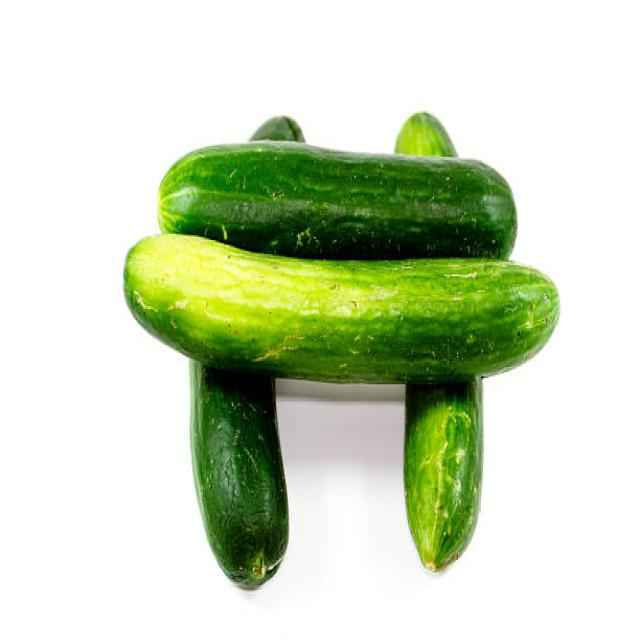cucumber: (121, 229, 559, 383), (157, 140, 517, 262)
